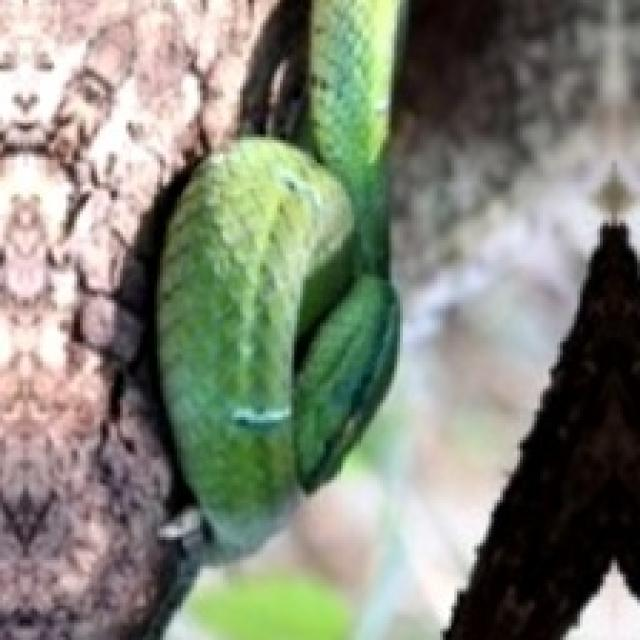north ph temple pitviper: (157, 0, 400, 549)
